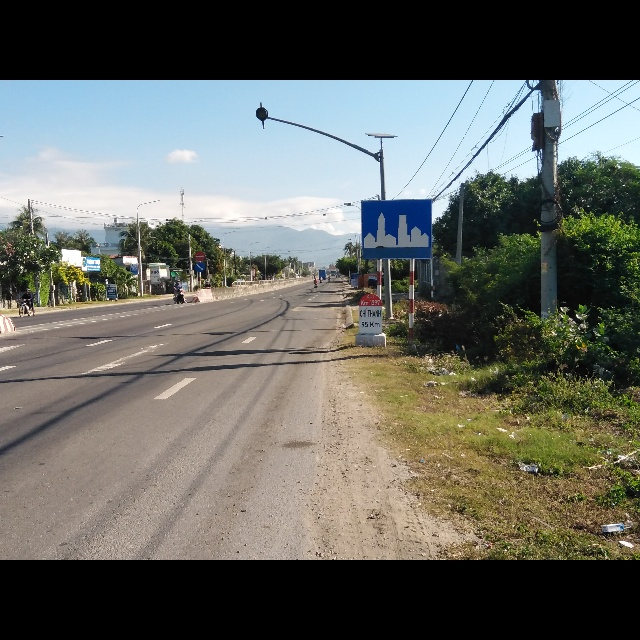Khu đông dân cư: (360, 198, 433, 261)
